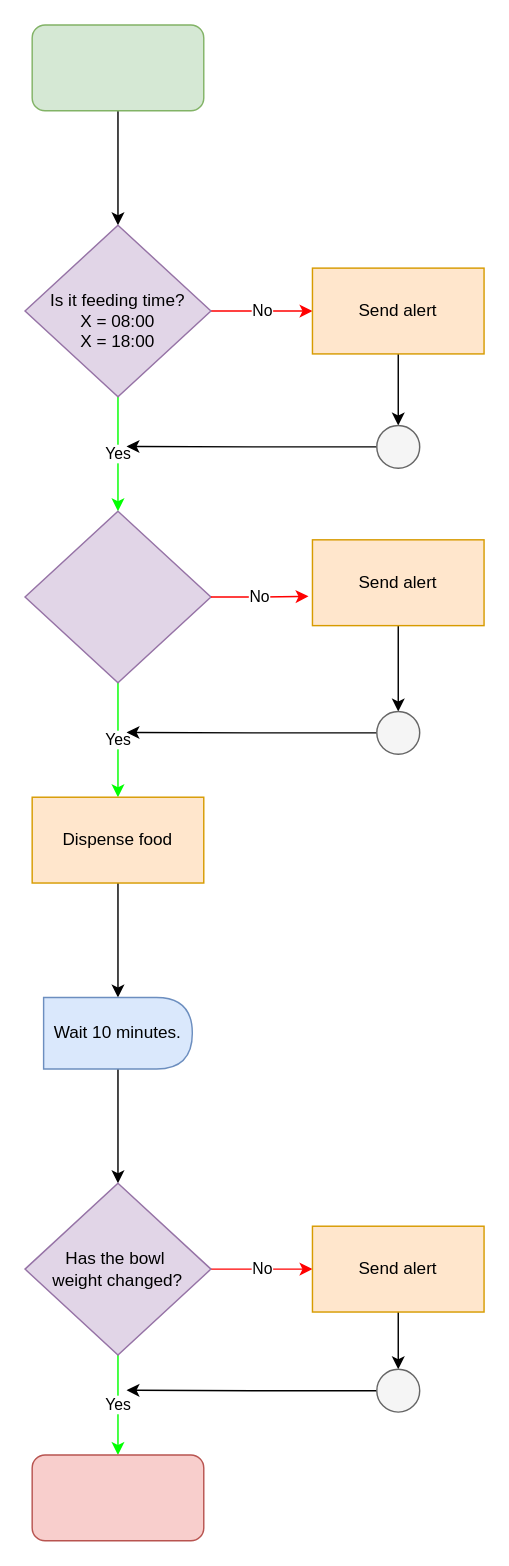
Image size: 509x1566. Some labels were removed from this diagram. Each missing label, with the box of its shape:
END OFF: (31, 1454, 204, 1541)
Is the feeder bin >10%?: (24, 510, 211, 683)
START ON: (31, 24, 204, 111)
